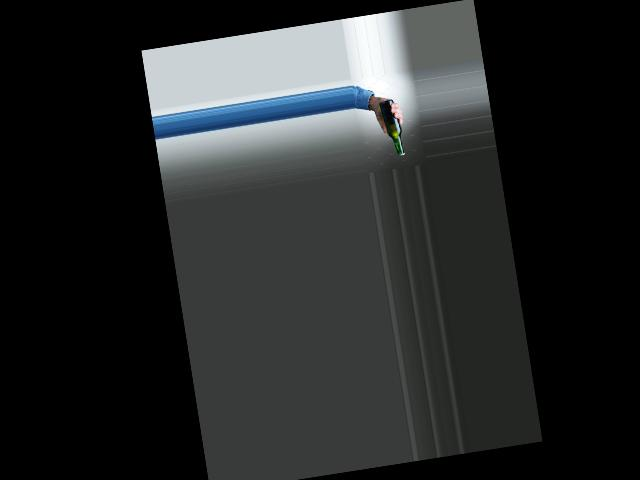beer: (378, 99, 405, 157)
